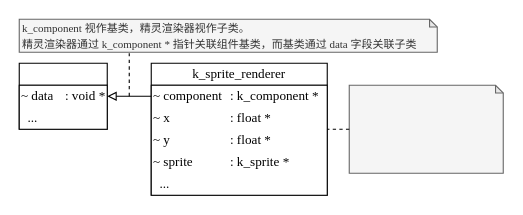
The diagram is 523 pixels wide and 215 high, and some of its shapes have lost their labels. Each missing label, with the box of its shape:
k_component: (18, 62, 107, 129)
精灵渲染器通过指针关联一份外部坐标和一个精灵素材，每帧执行绘制时，通过指针读取坐标，并在该位置绘制精灵: (348, 84, 503, 173)
